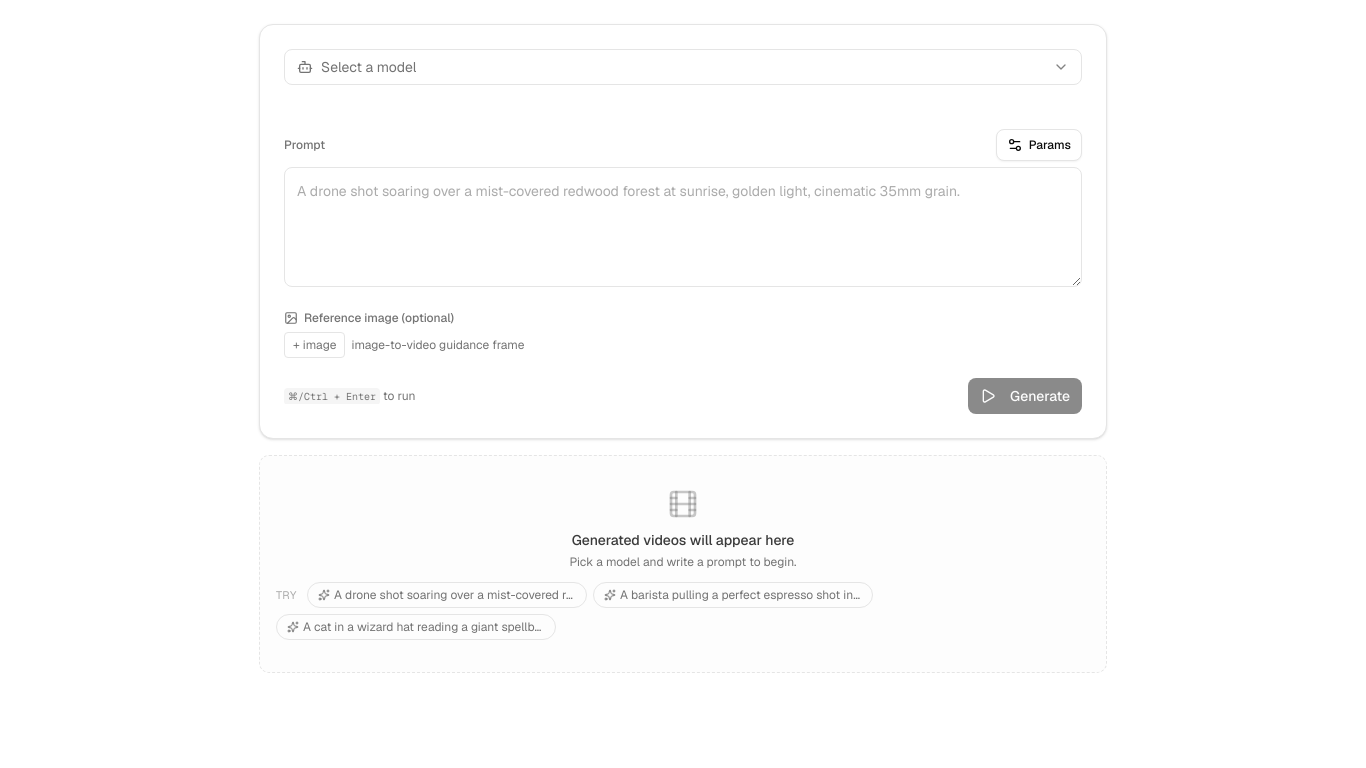
Test: VideoPlayground — params popover › shows a badge once seconds/size are set, and updates the action hint text
The image size is (1366, 768).
Click the button "Params": point(1039, 145) 996,129 -> 1082,161
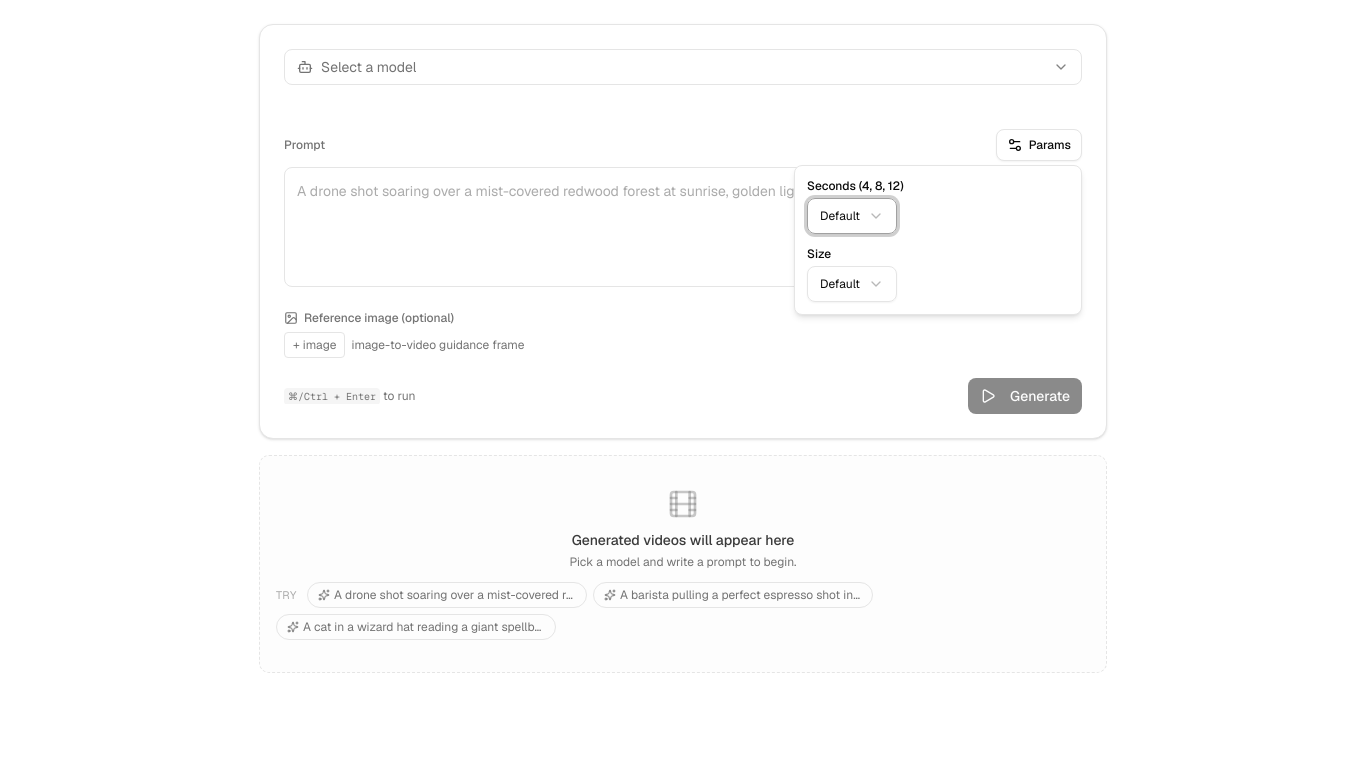
Click the dropdown labelled "Default" below "Seconds (4, 8, 12)": point(852, 216) 807,198 -> 897,234
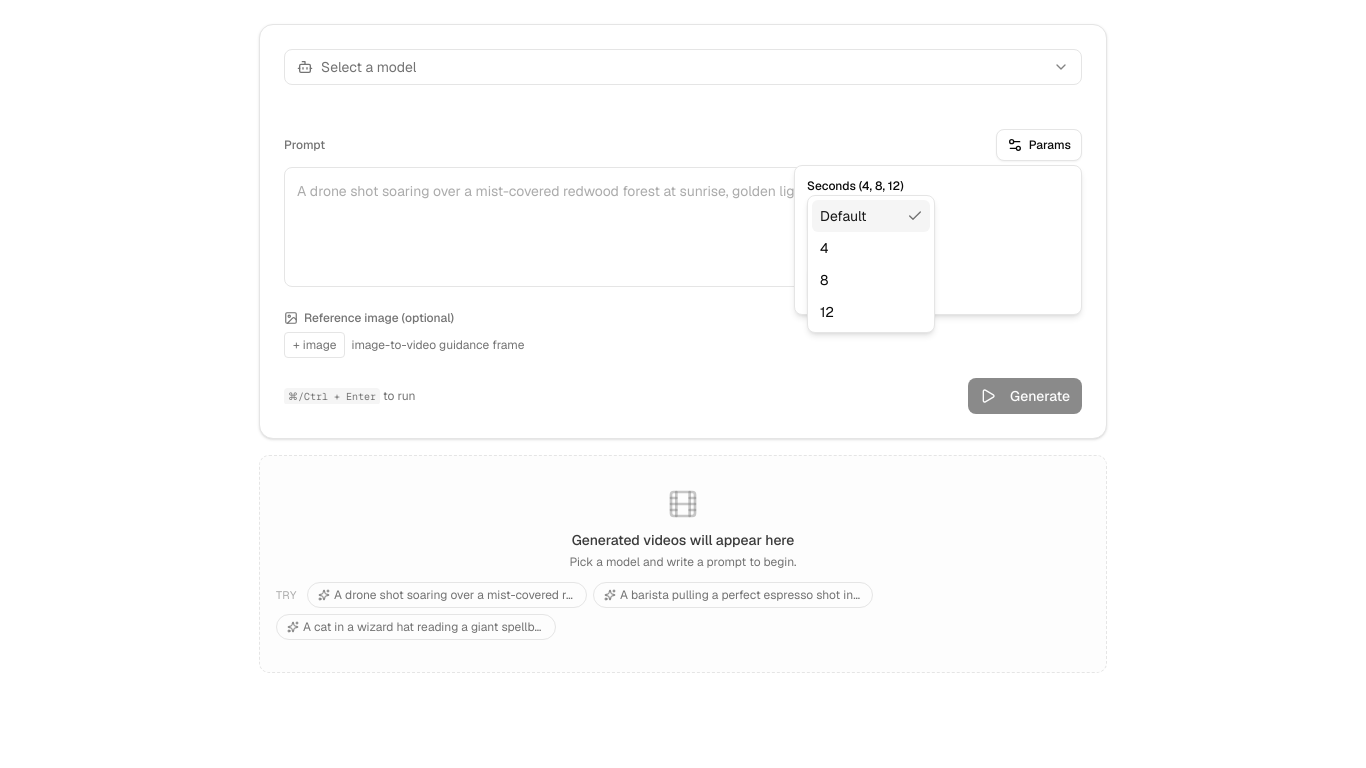
Click the option "8": point(824, 280) 820,271 -> 828,289
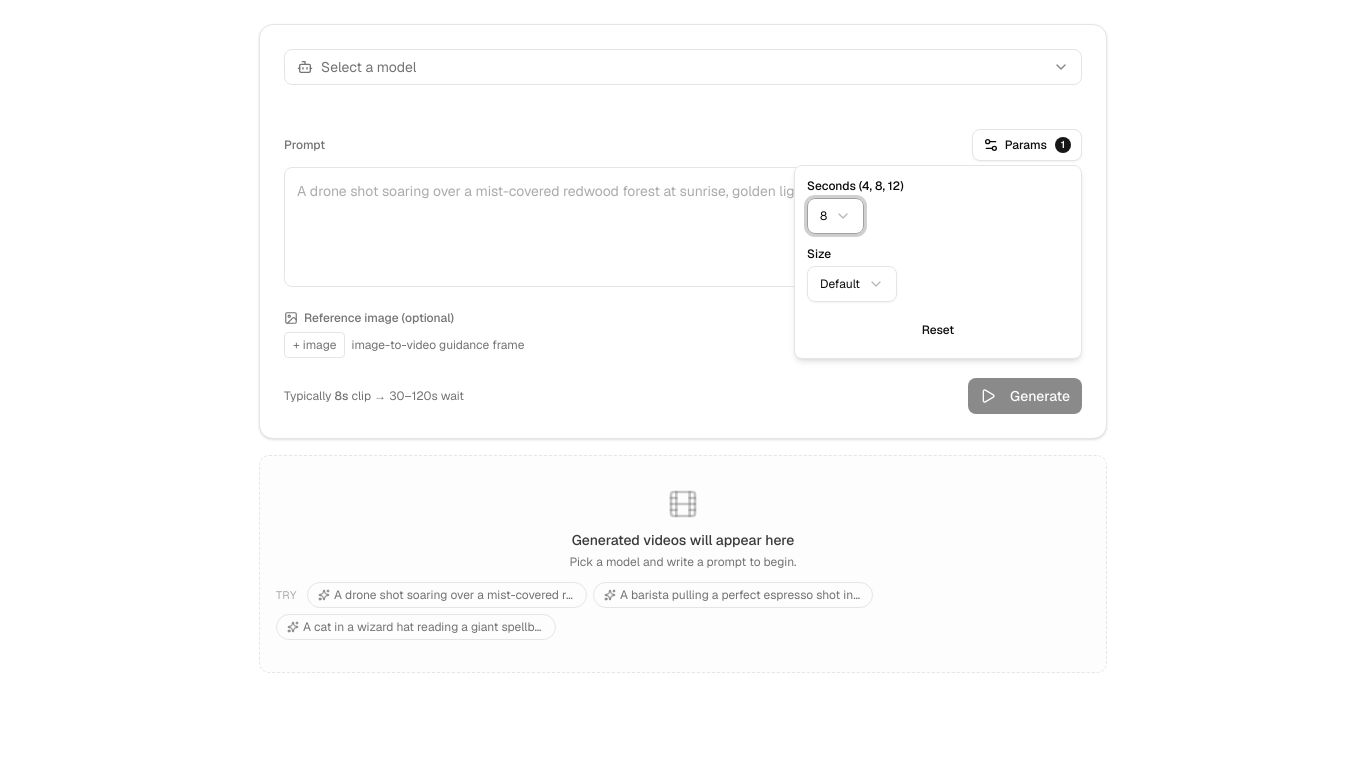
Check: the text "Typically 8s clip → 30–120s wait" is shown, box 284,388 -> 464,404
Check: the text "1" is shown, box 1055,137 -> 1071,153
